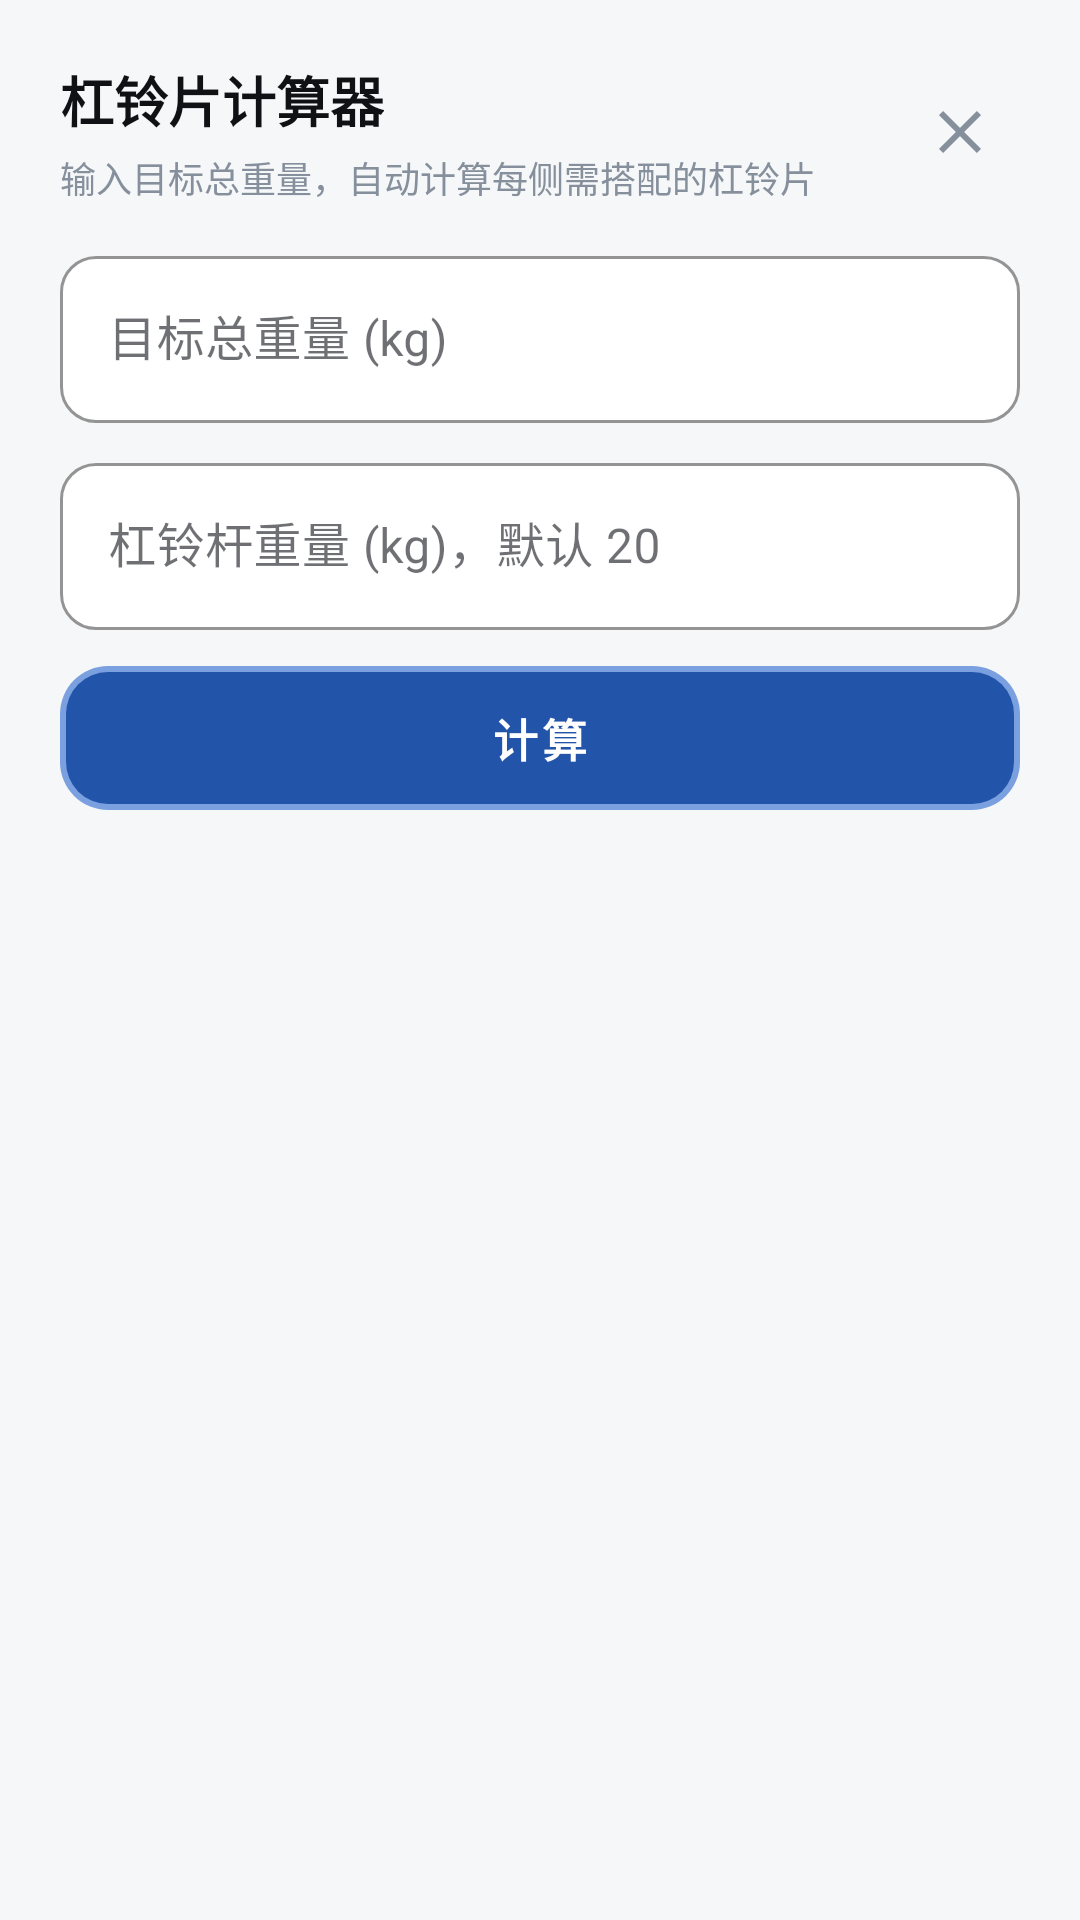

Icon bounding boxes for this 1080×1920 phone screenshot, format BBox(x1, y1, x2, y2):
关闭: BBox(939, 111, 981, 153)
